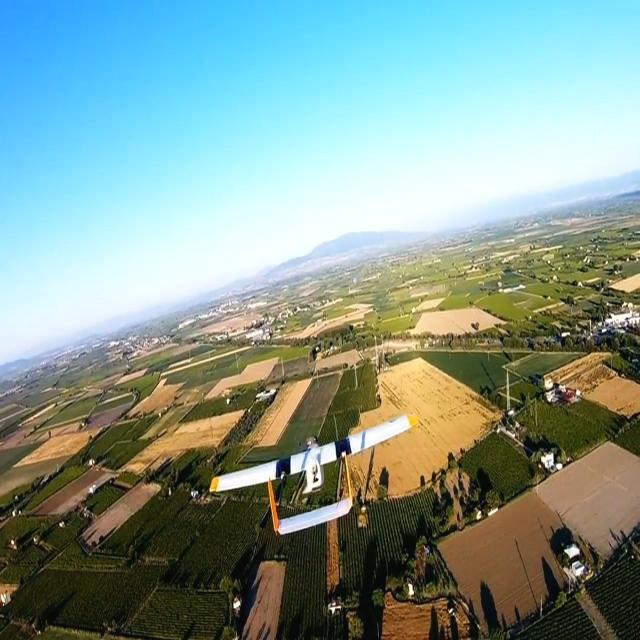iha: (198, 412, 420, 542)
